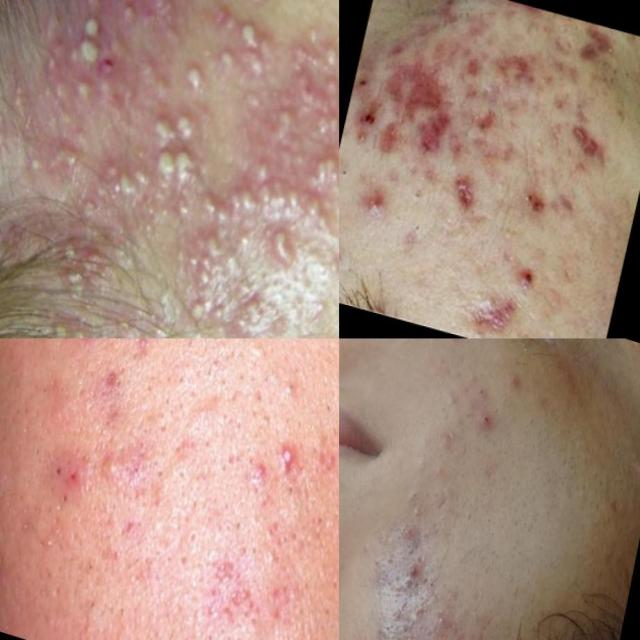8: (274, 426, 311, 482), (89, 445, 129, 496), (501, 358, 523, 396), (474, 408, 500, 439)
9: (10, 54, 106, 176), (171, 223, 244, 328), (134, 95, 214, 188), (286, 54, 339, 190), (34, 236, 112, 316), (210, 9, 283, 93), (211, 278, 312, 338), (81, 156, 157, 230), (199, 177, 260, 237), (266, 179, 327, 229), (65, 2, 114, 58), (254, 214, 304, 260), (108, 0, 182, 30)
blackheads: (386, 40, 448, 121), (455, 278, 520, 338), (487, 42, 543, 99), (458, 92, 510, 152), (414, 106, 457, 166), (368, 104, 407, 169), (444, 161, 482, 224), (570, 120, 614, 172), (545, 184, 584, 229), (575, 21, 613, 66), (394, 553, 429, 595), (382, 589, 412, 629), (445, 620, 471, 640)
dark spot: (270, 359, 319, 410), (394, 206, 438, 251), (608, 56, 640, 104), (398, 164, 434, 203), (509, 315, 558, 338), (339, 150, 359, 195), (400, 477, 425, 508), (468, 374, 492, 404)
